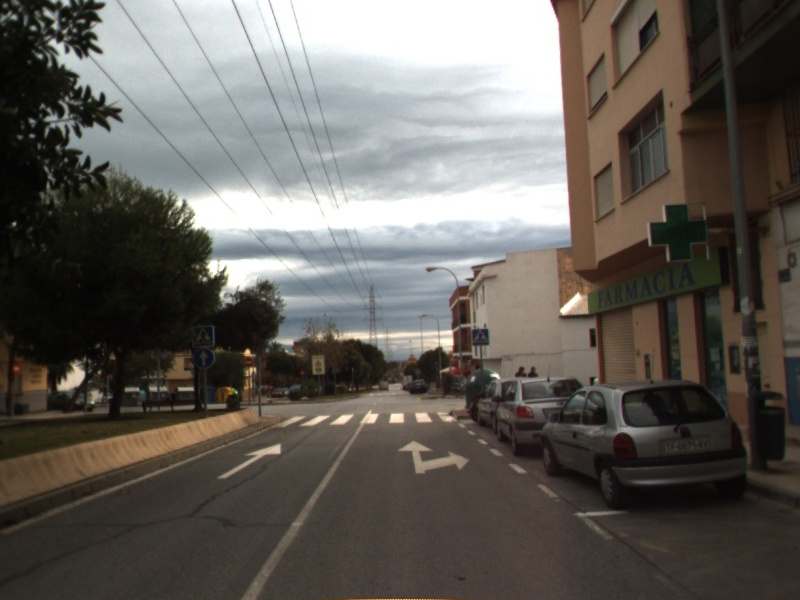STRAIGHT: (215, 441, 283, 480)
STRAIGHT_RIGHT: (395, 438, 472, 475)
